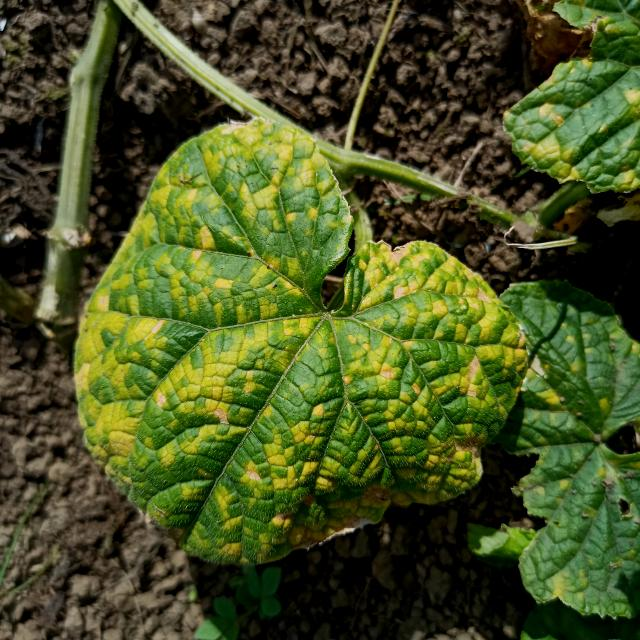disease_cucumber: (75, 125, 523, 573)
